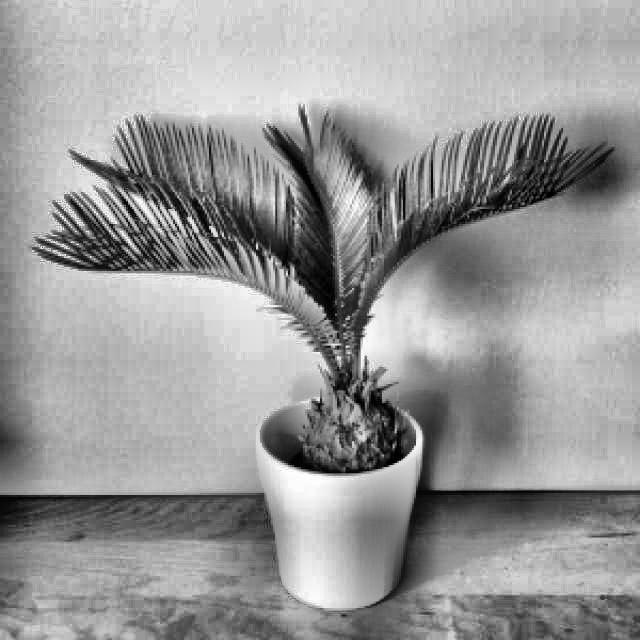plants: (106, 81, 512, 421)
